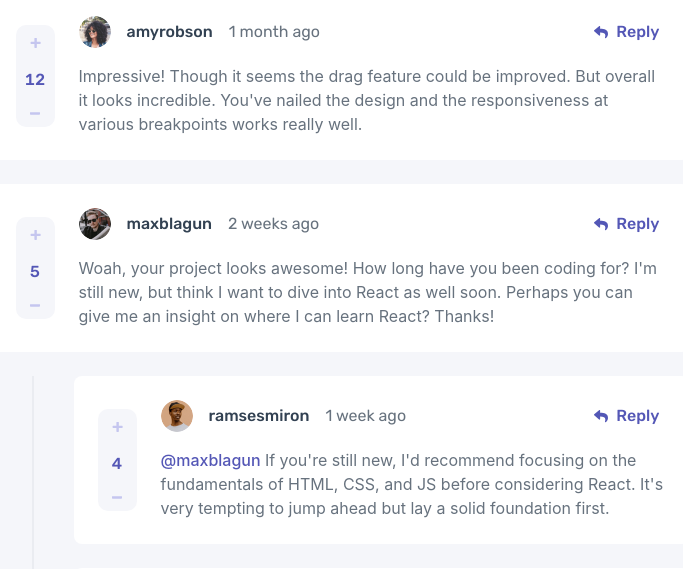
it: App › replies to a comment
The width and height of the screenshot is (683, 569).
Click the button "Reply" in the row of "1 month ago".
click(627, 32)  # box [588,16,666,48]
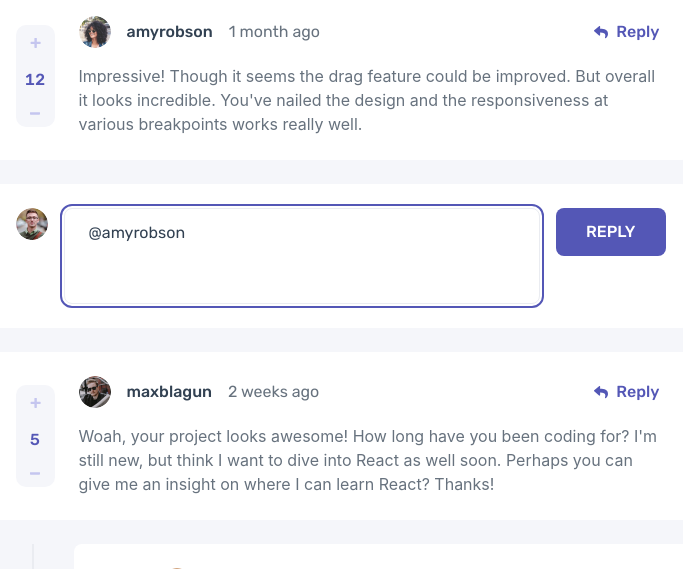
Type "Thanks for the feedback!" into the text box showing "@amyrobson".
click(302, 256); type("Thanks for the feedback!")  # box [64,208,540,304]
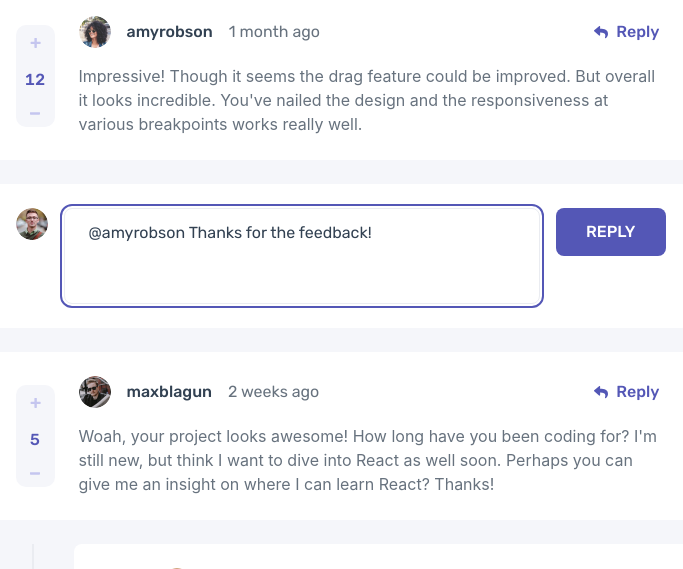
Click the 2nd button "Reply".
click(611, 232)  # box [556,208,666,256]
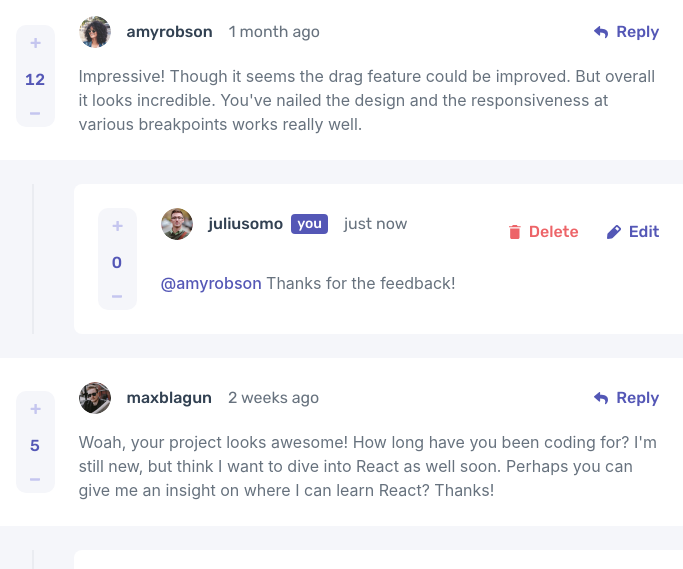
Now the text "Thanks for the feedback!" is shown, box [266,273,456,293]
